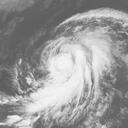cyclone: (34, 32, 104, 99)
